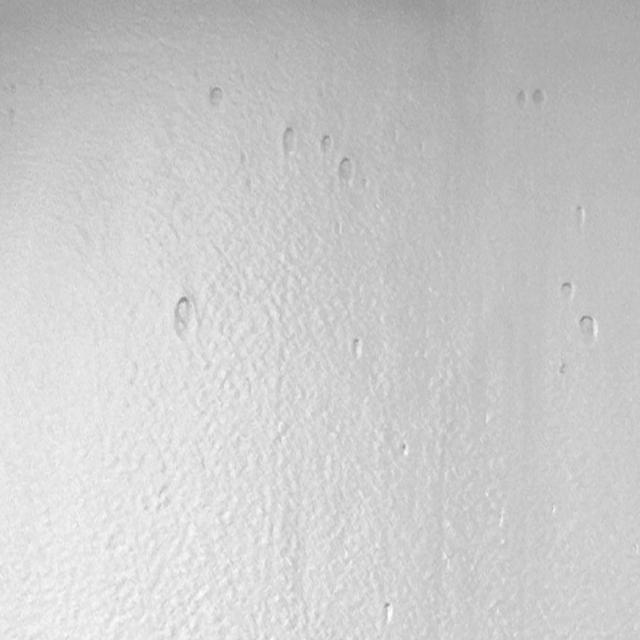pin holes: (172, 296, 202, 346), (576, 313, 601, 344), (336, 157, 357, 188), (207, 85, 231, 111), (278, 126, 298, 157), (348, 334, 368, 362), (570, 204, 590, 232), (558, 280, 579, 305), (530, 88, 550, 111), (512, 89, 531, 111), (317, 134, 335, 157), (381, 601, 396, 627), (399, 440, 414, 460), (557, 362, 569, 378)
